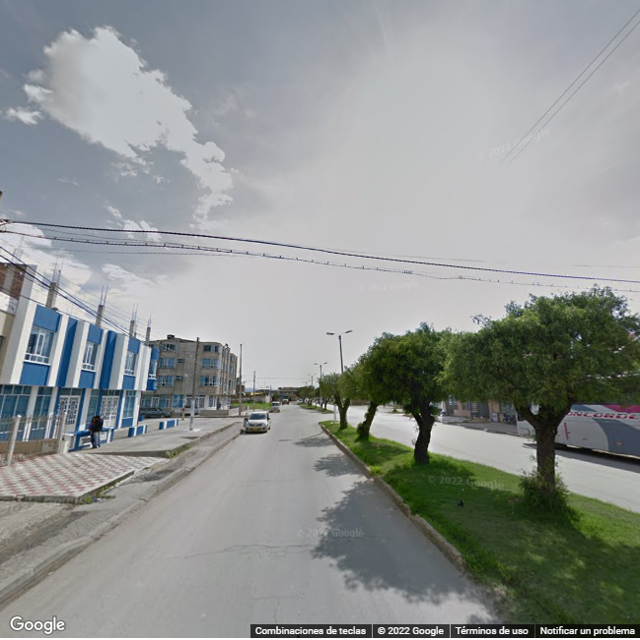D00: (271, 588, 283, 625)
D10: (173, 543, 330, 560), (245, 592, 313, 602)
